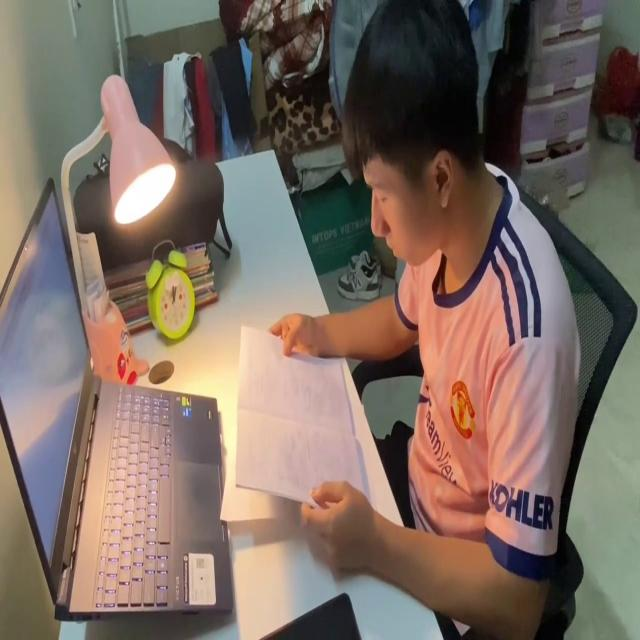book: (235, 309, 366, 512)
laptop: (0, 167, 236, 622)
phone: (251, 588, 362, 640)
student: (261, 8, 581, 640)
